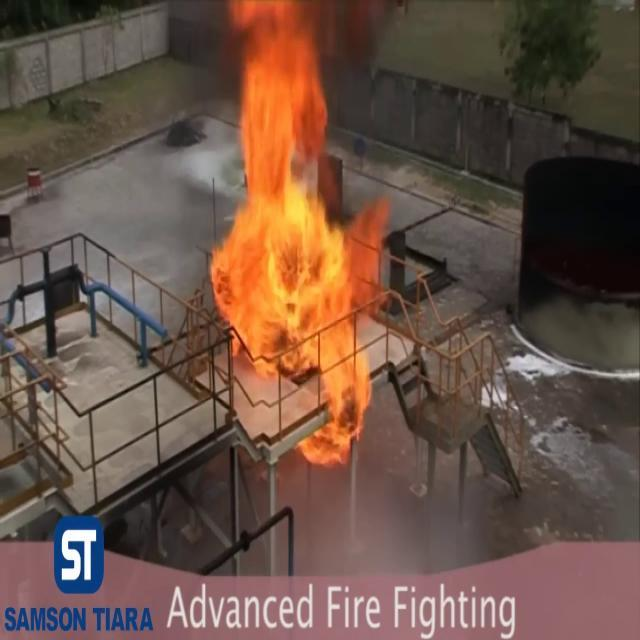Fire: (203, 2, 380, 460)
